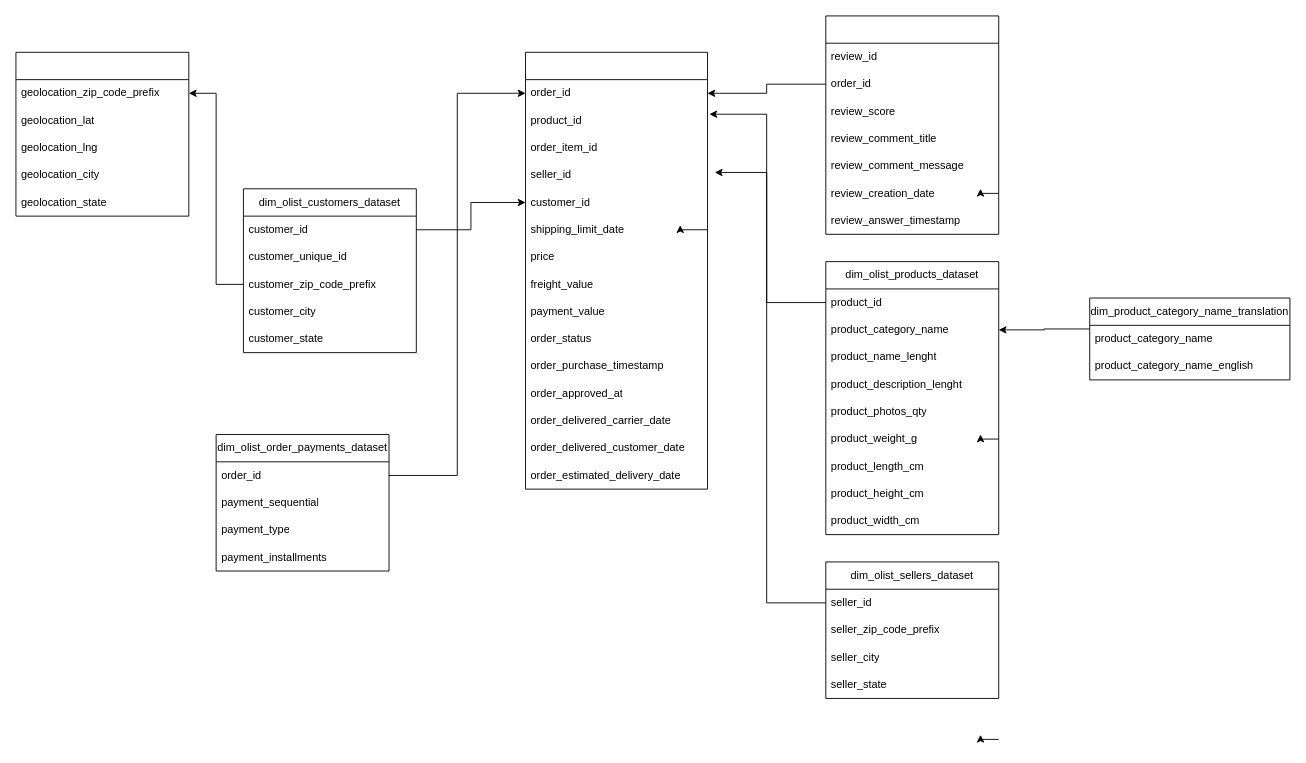
The diagram is 1306 pixels wide and 763 high, and some of its shapes have lost their labels. The box of each missing label's shape, as (x1, y1, x2, y2) in pixels:
dim_olist_geolocation_dataset: (15, 51, 189, 216)
dim_olist_order_reviews_dataset: (825, 15, 999, 234)
Fact_transactions_dataset: (525, 51, 708, 489)
